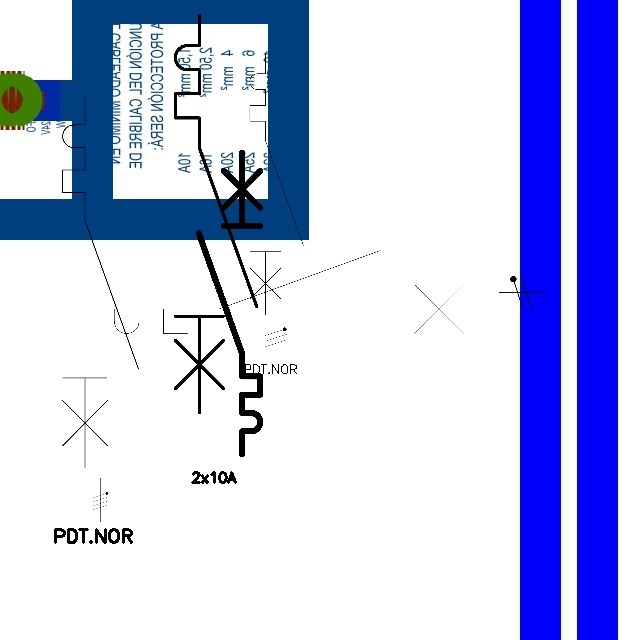interruptor_termomagnetico: (73, 240, 498, 344), (165, 5, 267, 423), (53, 87, 148, 477), (191, 145, 268, 462), (243, 47, 310, 322)
